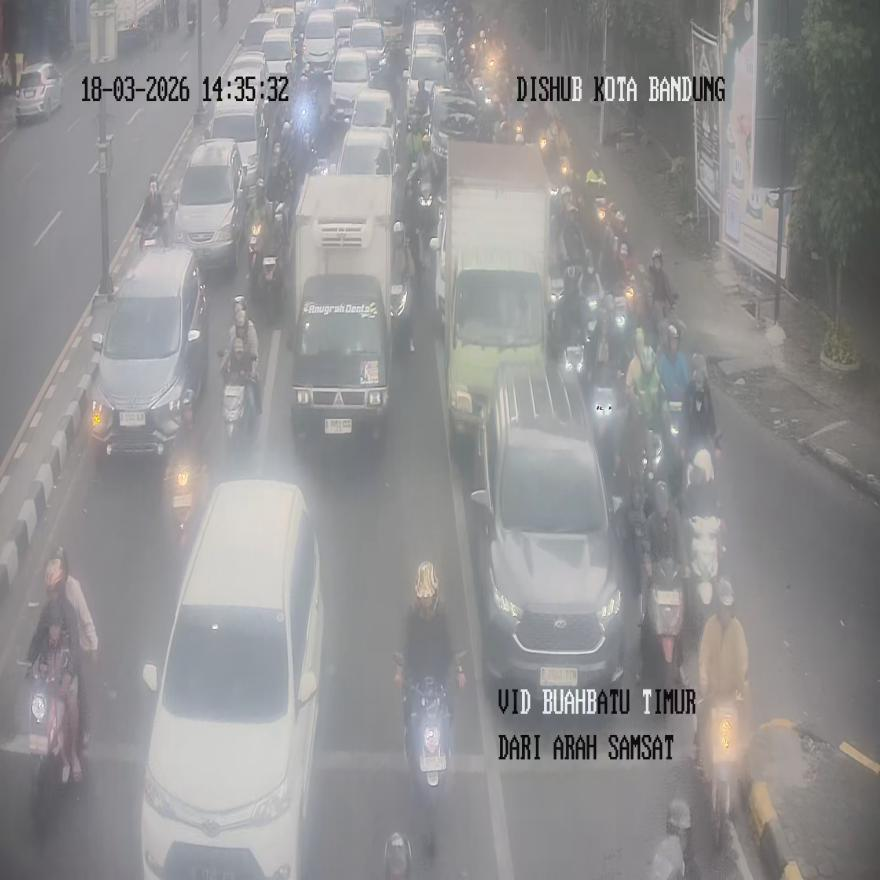Motor: (140, 479, 323, 878), (470, 360, 626, 716), (288, 172, 396, 440), (91, 247, 207, 459), (15, 61, 63, 123)
